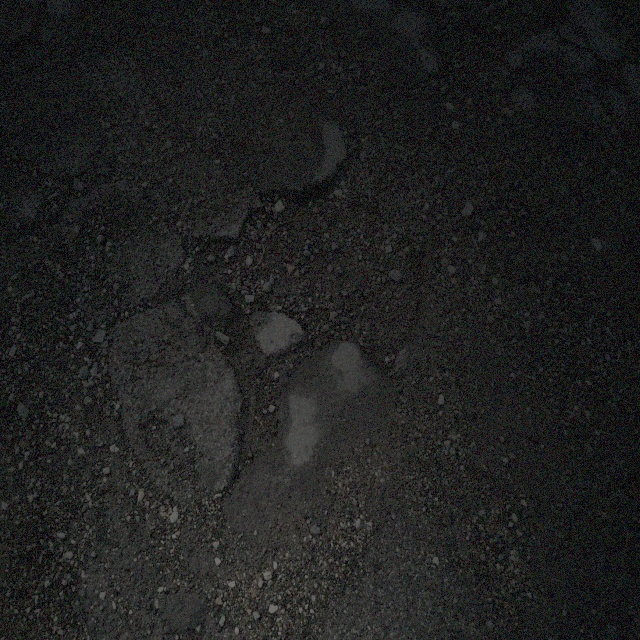pothole: (171, 154, 442, 488)
